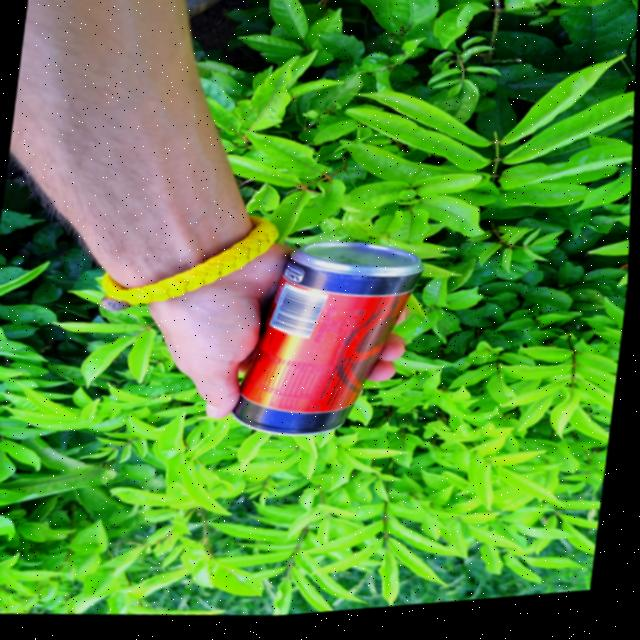Hell Classic: (240, 236, 429, 450)
